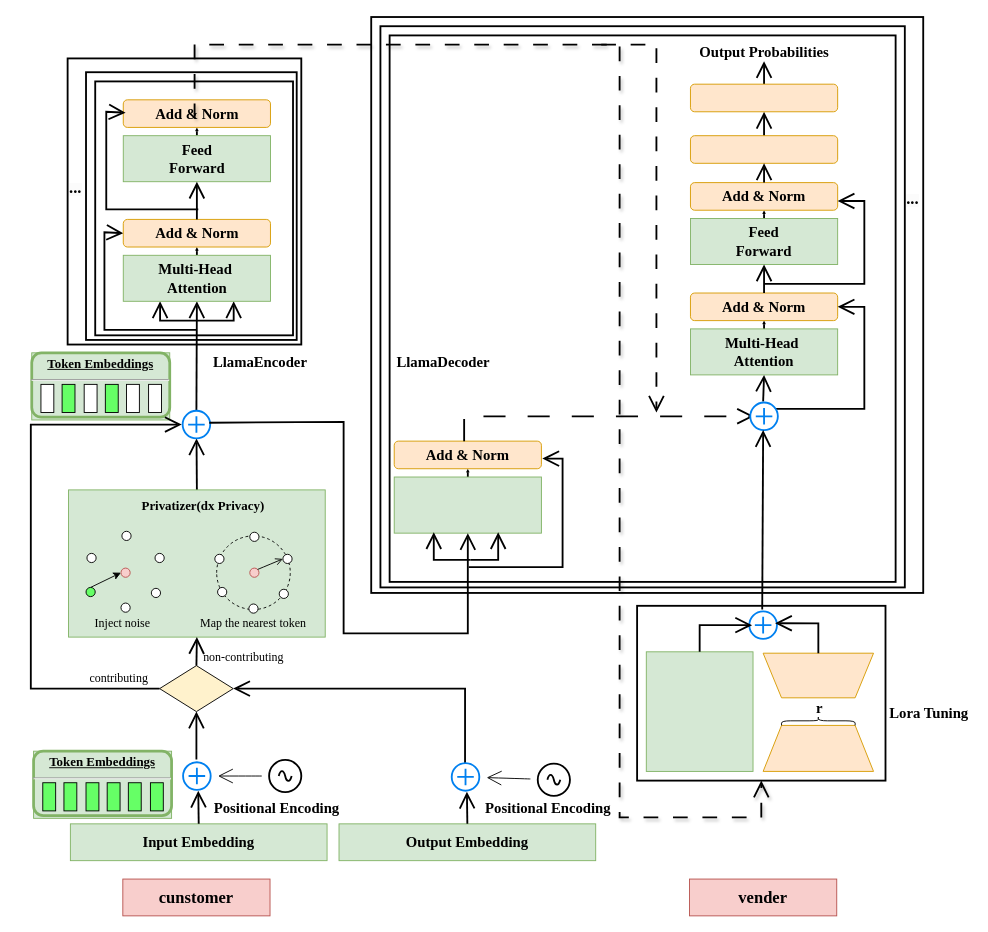
The diagram is 988 pixels wide and 932 high, and some of its shapes have lost their labels. Here are the shapes that lost their labels. From the top down, the centre of each, then its label:
pixel 764 97: Softmax
pixel 764 149: Linear
pixel 467 504: Masked Multi-Head Attention
pixel 196 688: CTI
pixel 818 675: A ∈ N(0, σ 2 )
pixel 699 711: Pre-trained Weights W ∈ R d*d
pixel 818 747: B ∈ N(0, σ 2 )
